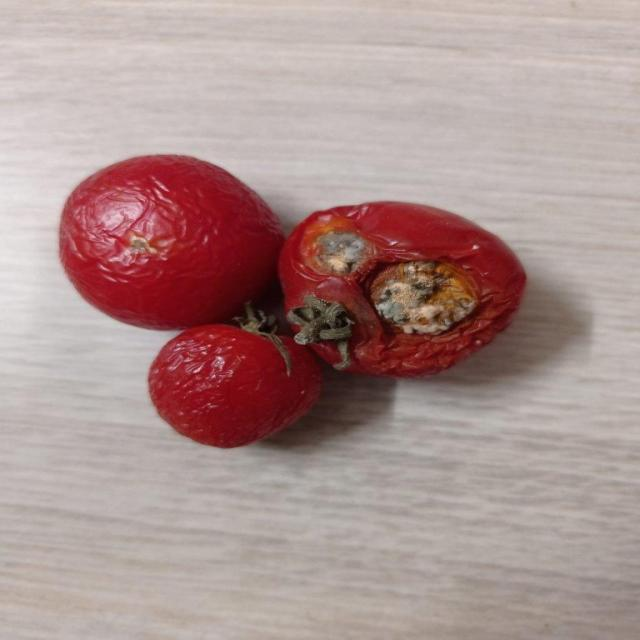Rotten: (275, 198, 525, 377)
